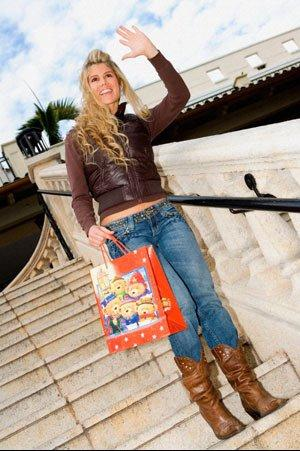person: (64, 26, 276, 439)
